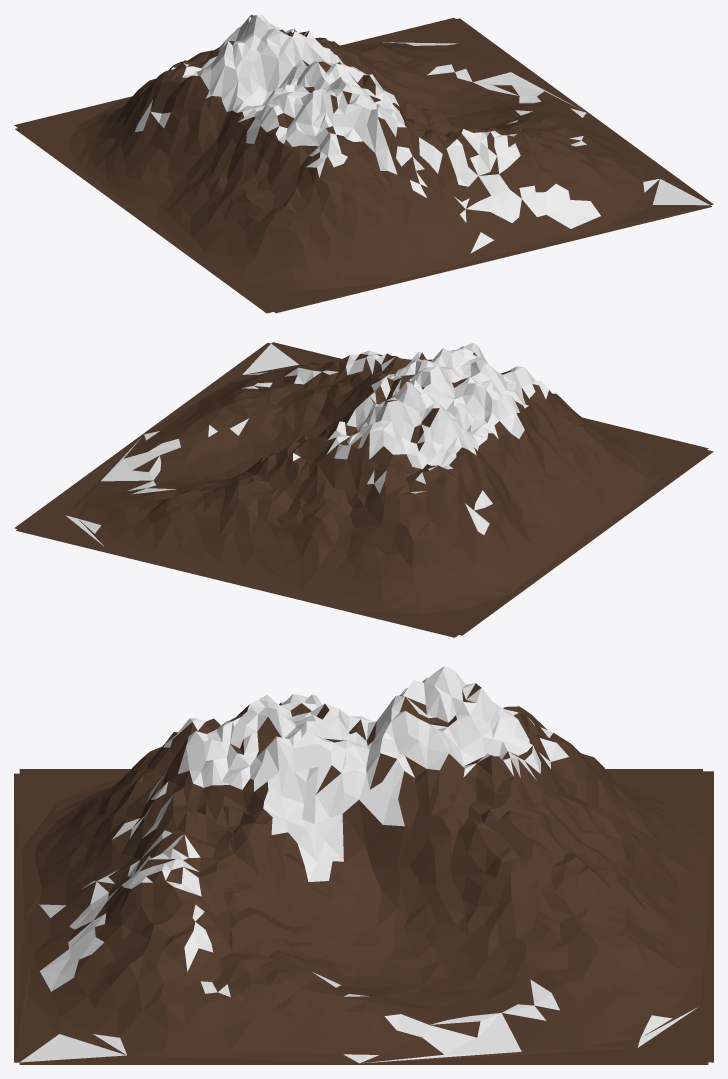
The picture shows the model from 3 angles, top to bottom: view 1: azimuth 30°, elevation 25°; view 2: azimuth 150°, elevation 25°; view 3: azimuth 270°, elevation 25°; orthographic projection. The views are drawn at different scales.
Visible parts, largest first — view 1: Landscape; view 2: Landscape; view 3: Landscape.
Boxes of the visible parts, bbox=[...] form: Landscape: bbox=[14, 14, 713, 313]; Landscape: bbox=[14, 342, 713, 637]; Landscape: bbox=[14, 666, 713, 1064].
Bounding box in the file's own units: 2 × 0.6316 × 2.
